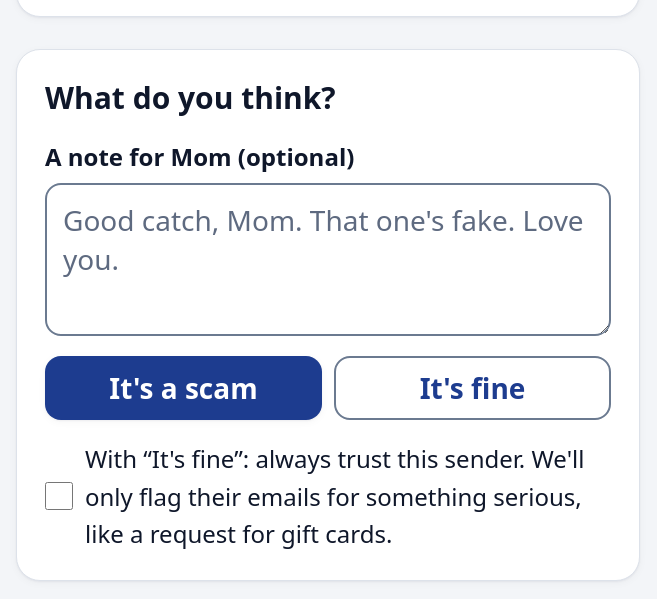
Test: feed item detail › sends "It's a scam" with the kid's own note, then shows what was sent
The width and height of the screenshot is (657, 599).
(page scrolled)
Type "  Good catch, Mom. Love you.  " into the text box labelled "A note for Mom (optional)" at (328, 260), box [45,183,611,336]
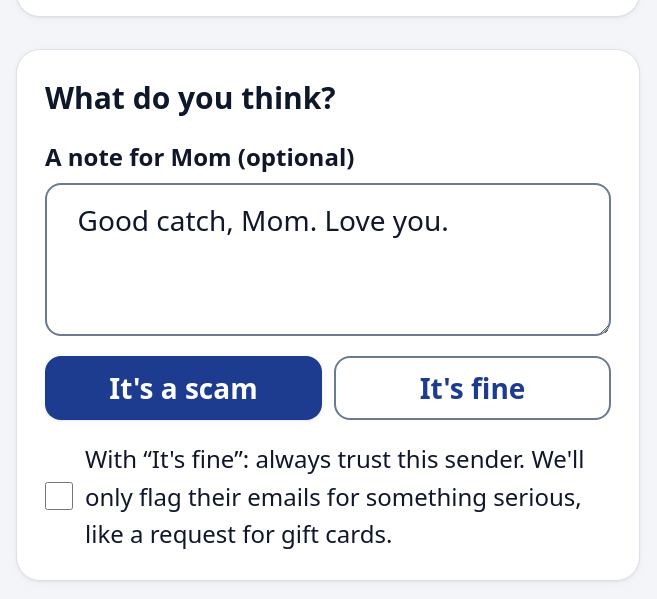
Click the button "It's a scam" at (184, 388), box [45,356,322,420]
(page scrolled)
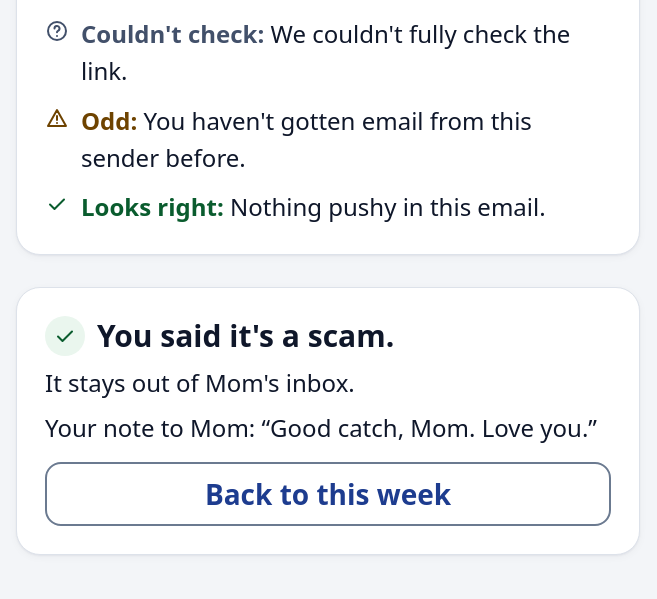
Check: the heading "You said it's a scam." is shown, box [45,314,394,356]
Check: the text "It stays out of Mom's inbox." is shown, box [45,366,355,398]
Check: the text "Your note to Mom: “Good catch, Mom. Love you.”" is shown, box [45,409,611,446]
